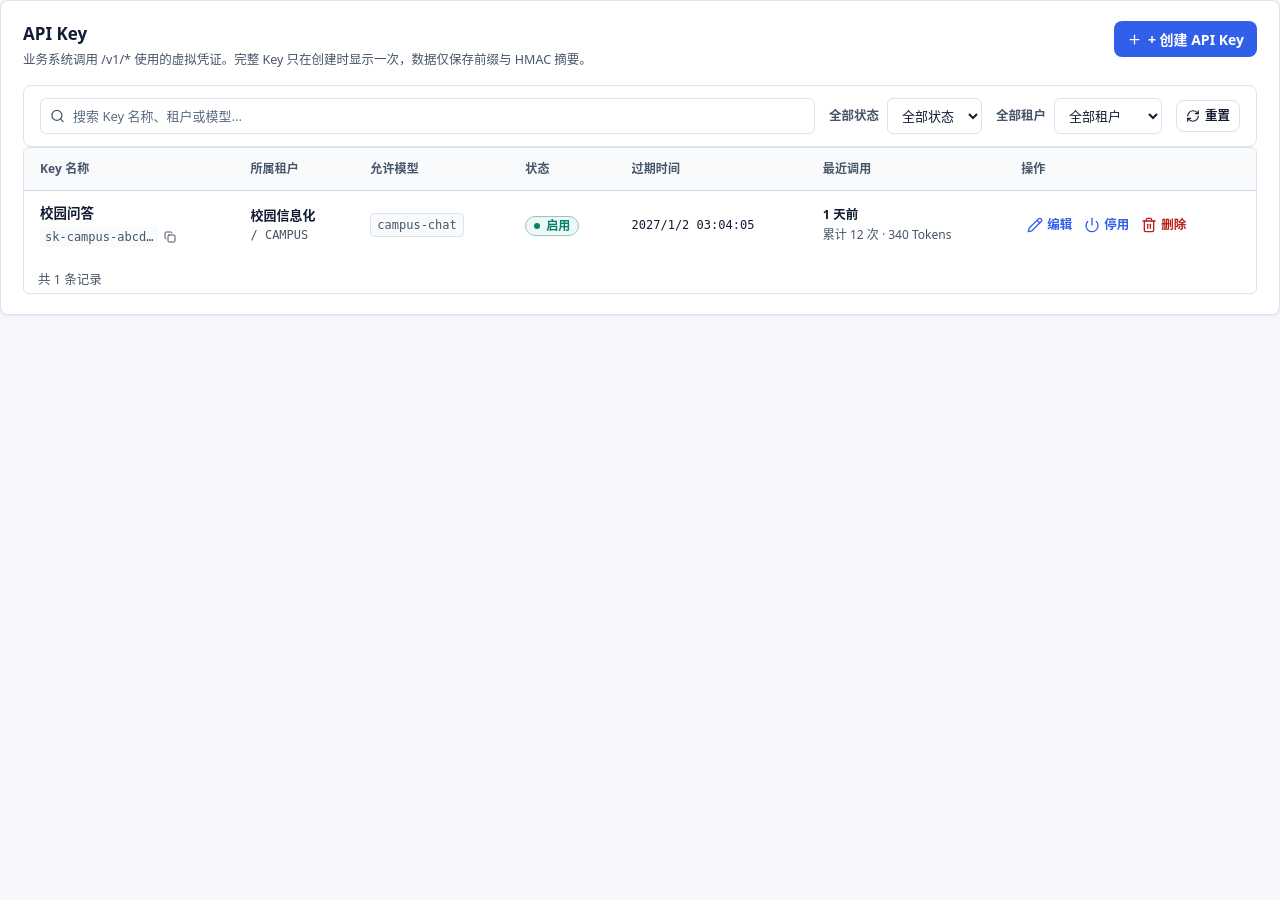
Test: ApiKeysPage secret handling › cancels a create without sending anything
The image size is (1280, 900).
Click the button "+ 创建 API Key". click: [1185, 39]
box: 1114,21 -> 1257,57
(page scrolled)
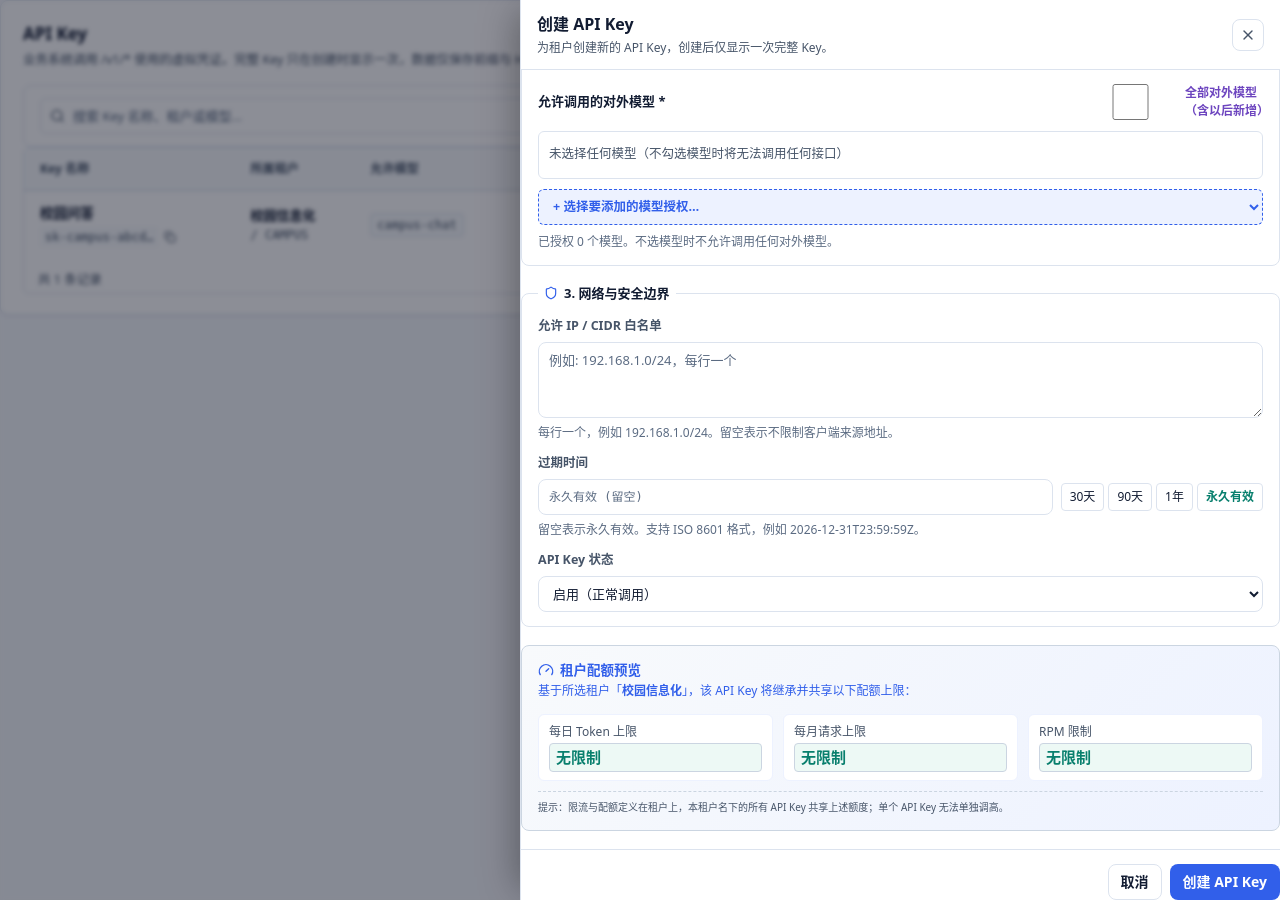
Click the button "取消". click: [1135, 882]
box: 1108,864 -> 1162,899
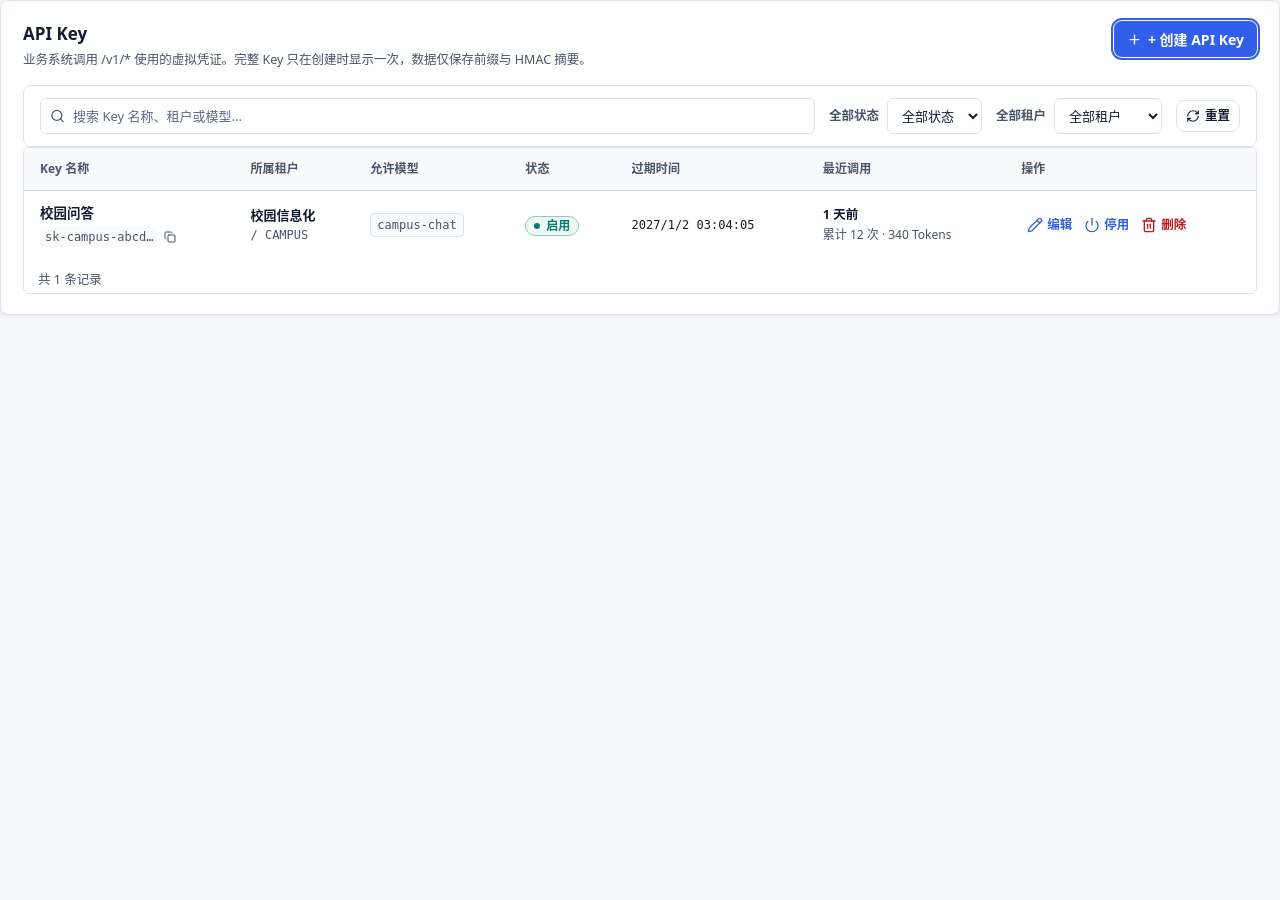
Expected: the dialog is gone
